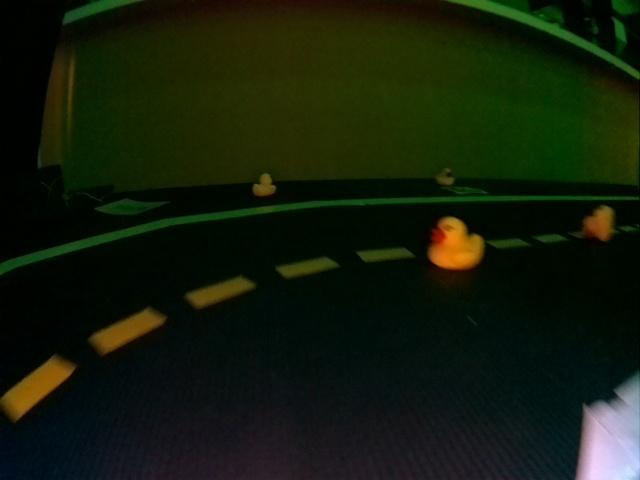Duckie: (430, 216, 483, 270), (584, 206, 615, 243), (253, 174, 277, 197), (435, 169, 454, 185)
